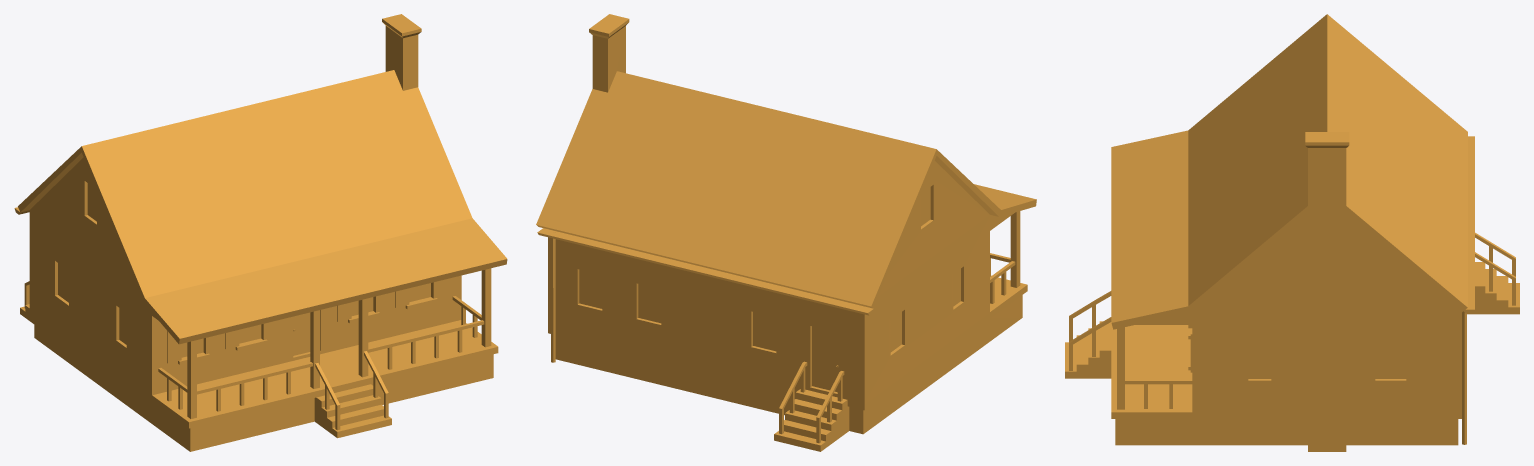
File: building-house-family-small.fbx
3 views of the same model, side by side, from view 1: azimuth 30°, elevation 25°; view 2: azimuth 150°, elevation 25°; view 3: azimuth 270°, elevation 25° (orthographic). The views are drawn at different scales.
Parts seen in each view (by area): view 1: building-house-family-small; view 2: building-house-family-small; view 3: building-house-family-small.
Part boxes in pixels (x1=…): building-house-family-small: x1=14, y1=14, x2=507, y2=451; building-house-family-small: x1=536, y1=14, x2=1036, y2=451; building-house-family-small: x1=1065, y1=14, x2=1519, y2=451.
Size of the model in its own units: 10.87 by 8.9 by 11.8.
